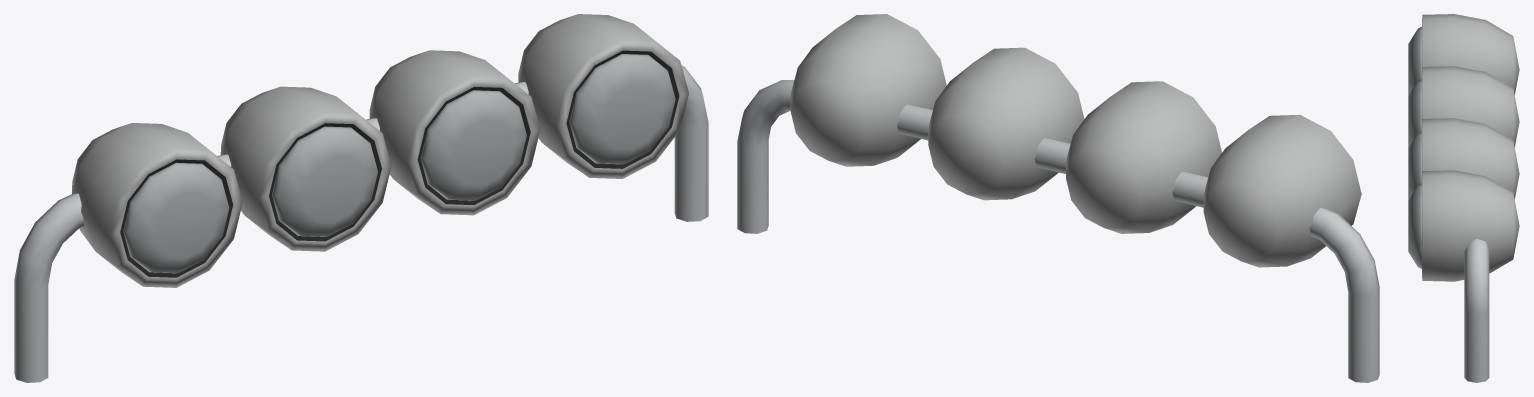
Rendered from Car_07_FogLight.fbx.
3 views of the same model, side by side, from view 1: azimuth 30°, elevation 25°; view 2: azimuth 150°, elevation 25°; view 3: azimuth 270°, elevation 25° (orthographic). The views are drawn at different scales.
Visible parts, largest first — view 1: Car_07_FogLight; view 2: Car_07_FogLight; view 3: Car_07_FogLight.
Part boxes in pixels (box(x1,y1,x2,y2)): Car_07_FogLight: box(14, 14, 708, 382); Car_07_FogLight: box(737, 14, 1379, 382); Car_07_FogLight: box(1408, 14, 1519, 382).
Size of the model in its own units: 150 by 29.11 by 47.62.
